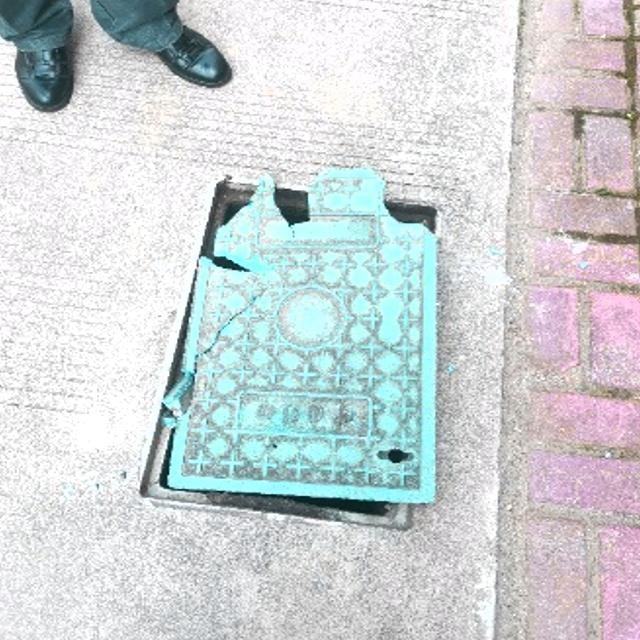broke: (139, 167, 439, 539)
